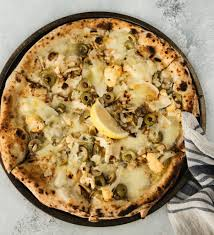pizza: (5, 23, 203, 221)
